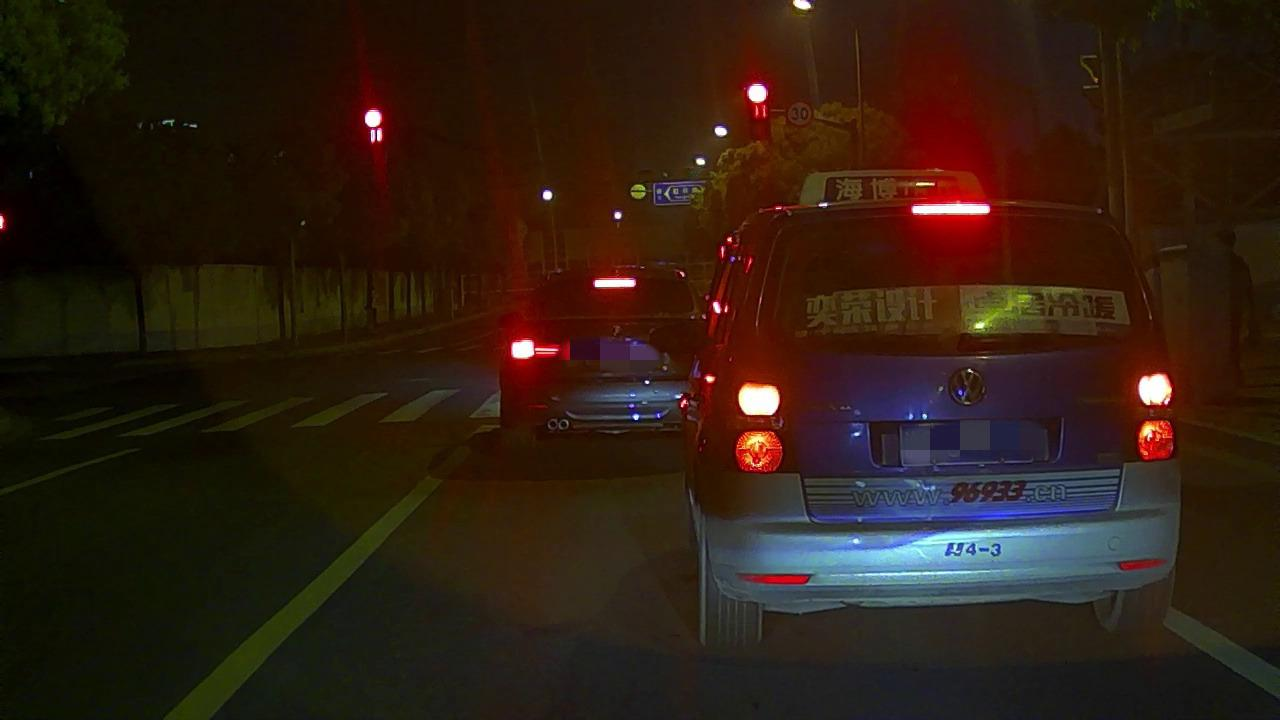traffic_light: (747, 83, 771, 136), (366, 110, 384, 147)
